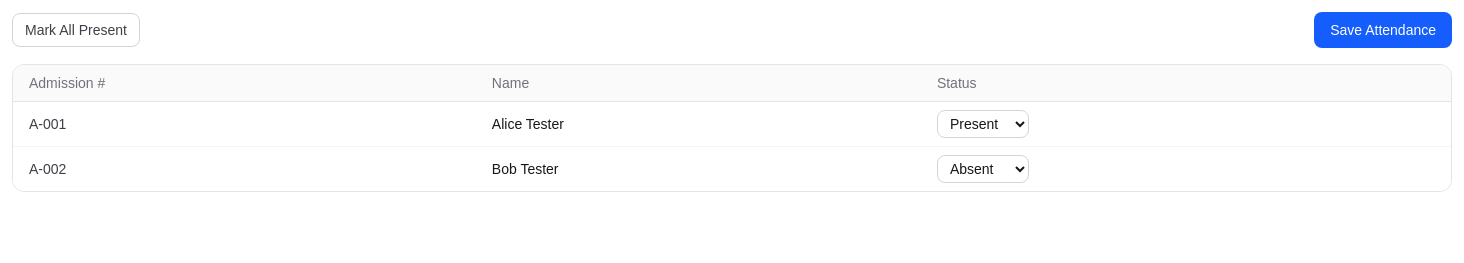
Test: BulkMarkAttendanceForm › shows the server error message and does not refresh on failure
Step 1. Click the button "Save Attendance" → (1383, 30), box [1314,12,1452,48]
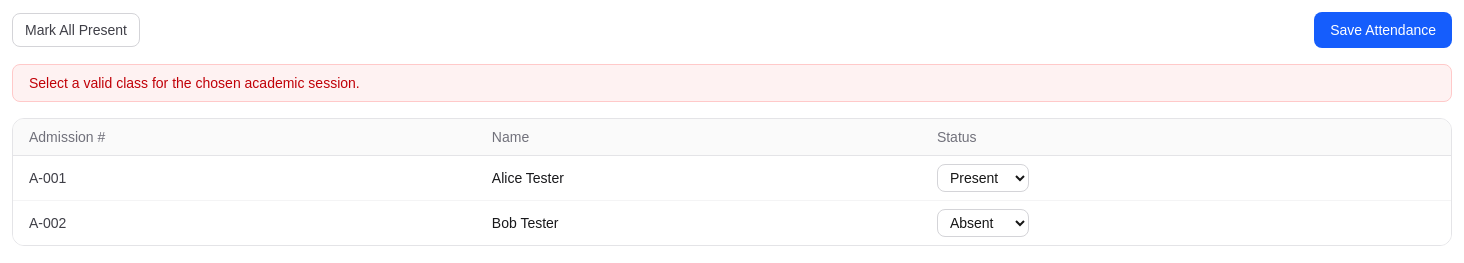
Now the text "Select a valid class for the chosen academic session." is shown, box [12,64,1452,102]
